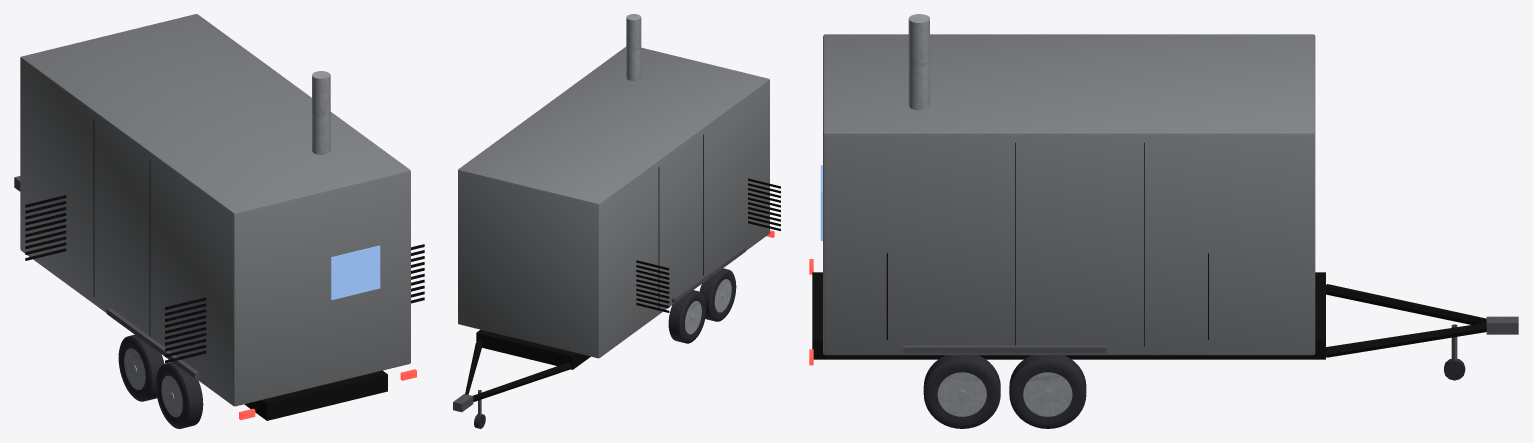
Rendered from generator_trailer_grey.gltf.
3 views of the same model, side by side, from view 1: azimuth 30°, elevation 25°; view 2: azimuth 150°, elevation 25°; view 3: azimuth 270°, elevation 25° (orthographic). The views are drawn at different scales.
Parts seen in each view (by area): view 1: generator_trailer_grey; view 2: generator_trailer_grey; view 3: generator_trailer_grey.
Boxes of the visible parts, <box> form: generator_trailer_grey: <box>14,14,424,428</box>; generator_trailer_grey: <box>453,14,780,428</box>; generator_trailer_grey: <box>809,14,1518,428</box>.
Size of the model in its own units: 3.21 by 3.95 by 6.63.
Materials: 11 (7 with a texture image).
